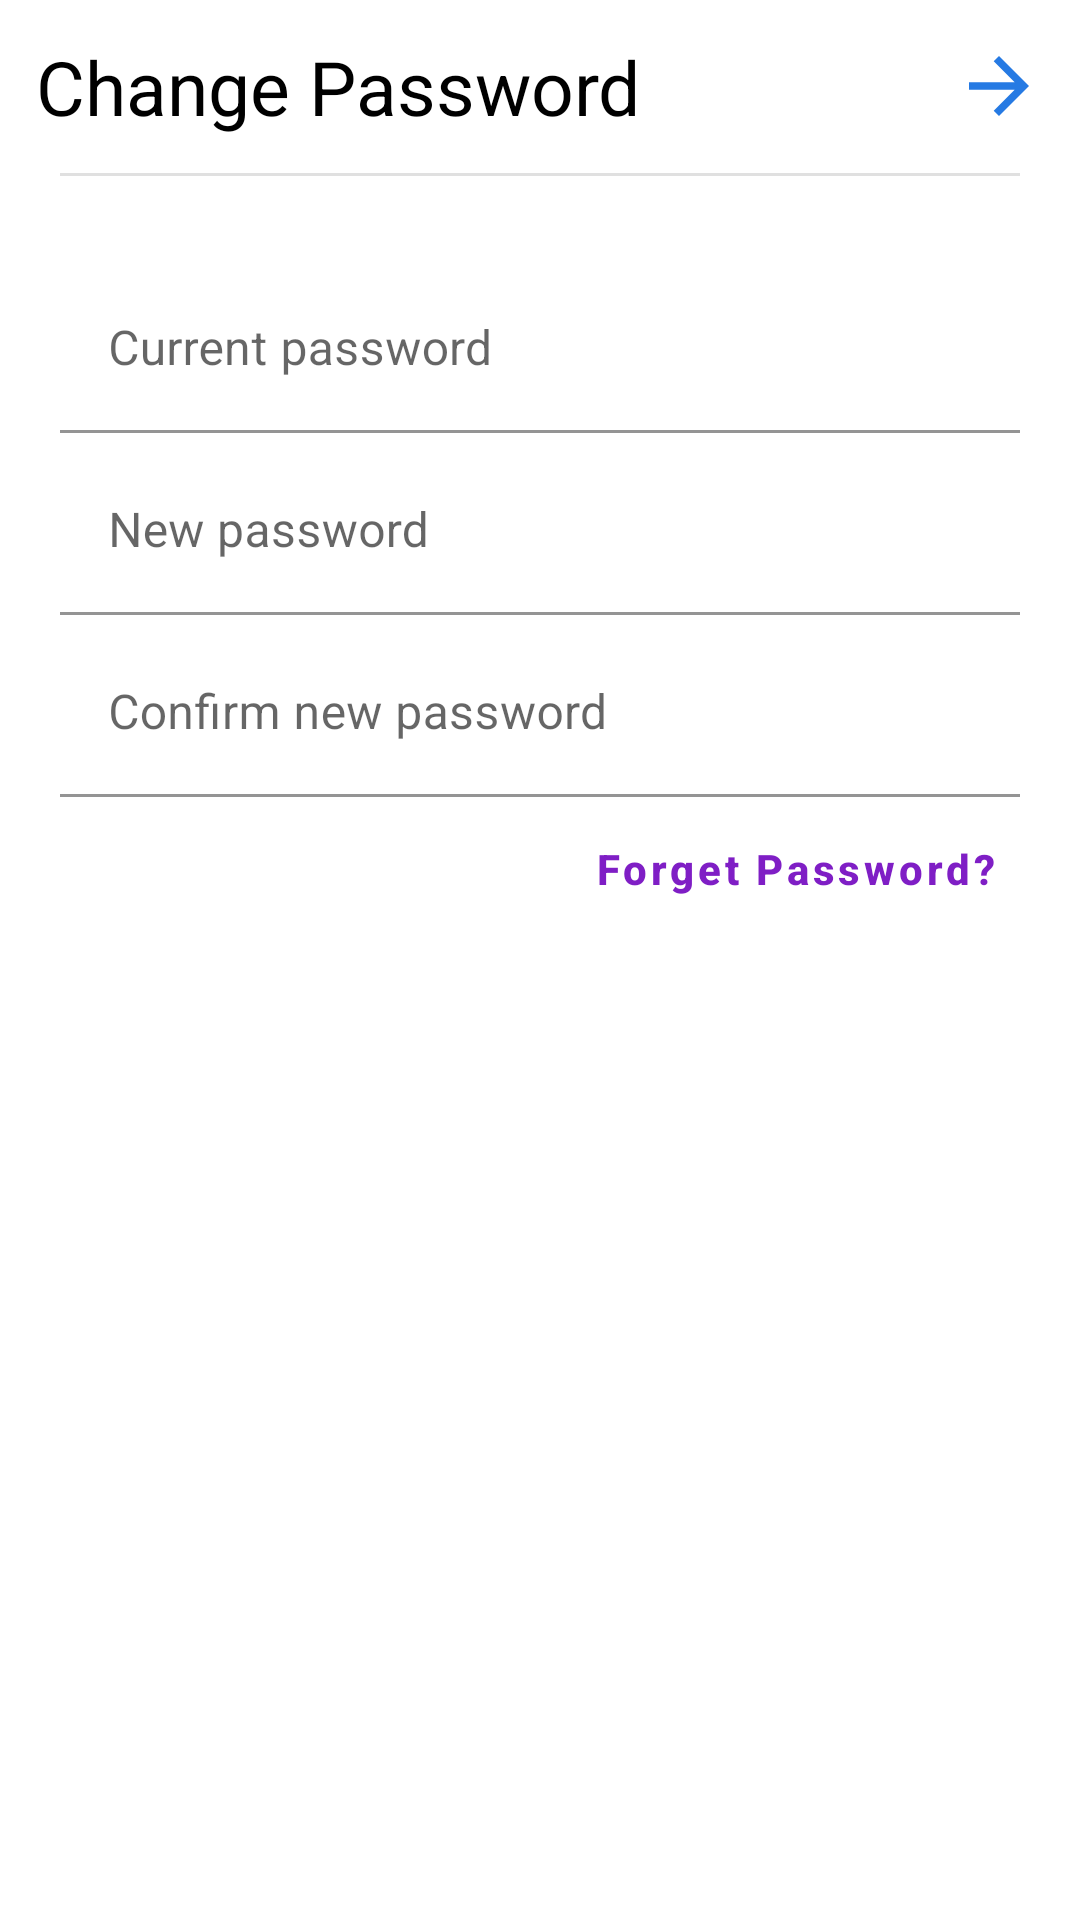

Point at icon controls on the screen. Image size 1080 × 1920, points as (x,y).
arrow: (999,86)
